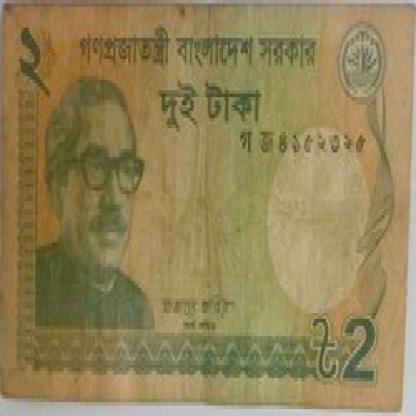two taka: (12, 24, 68, 114), (336, 295, 380, 402)
